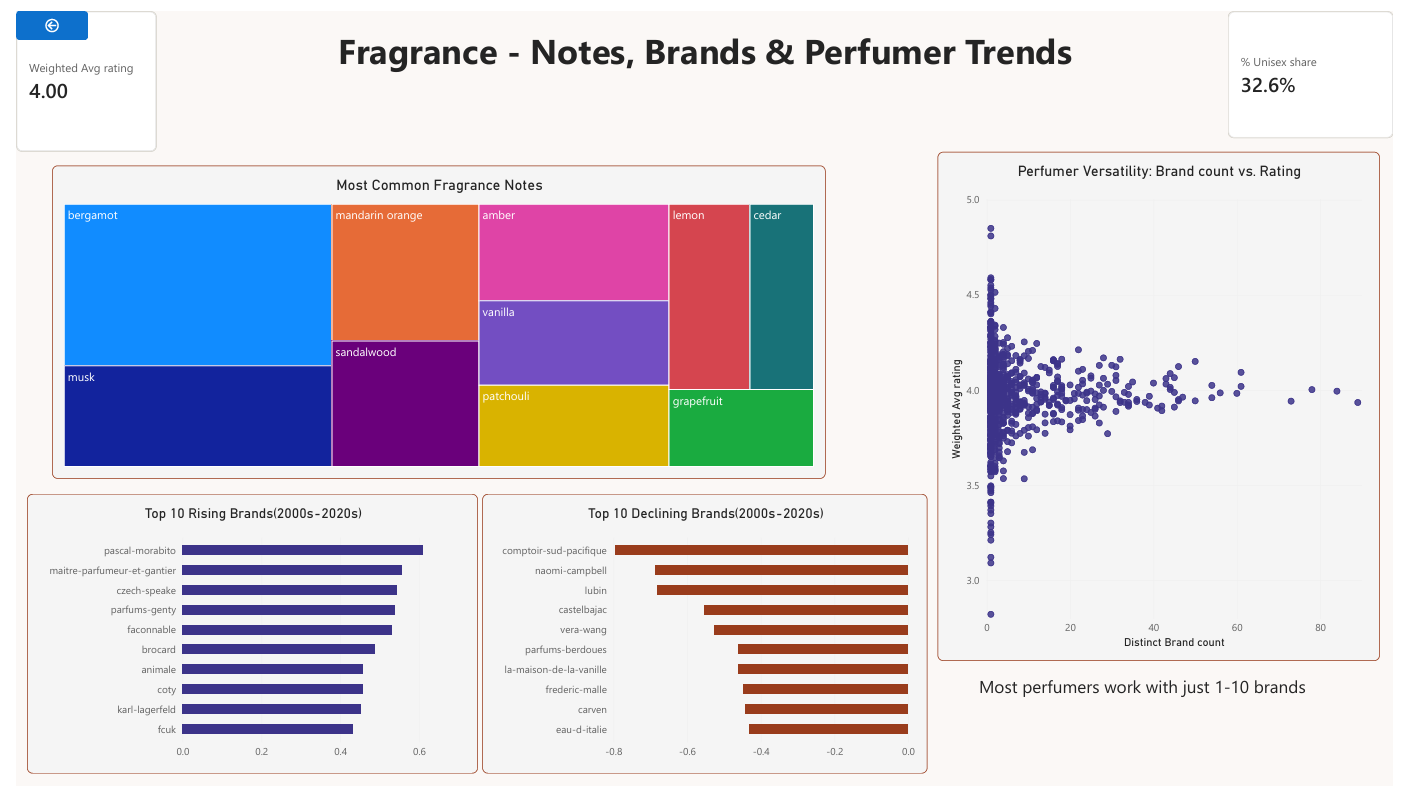

Layout of this report page (visuals, bound fields, positions):
{"tool":"powerbi","page":{"name":"Page 1","canvas":[1920,1080],"ordinal":0},"visuals":[{"type":"cardVisual","fields":{"Data":["luxury_fragrance perfumes.Weighted Avg rating"]},"box":[0,0,196,196],"z":1},{"type":"cardVisual","fields":{"Data":["luxury_fragrance perfumes.% Unisex share"]},"box":[1689.6,0,231.2,177.1],"z":2},{"type":"actionButton","box":[0,0,100,40],"z":6},{"type":"scatterChart","title":"Perfumer Versatility: Brand count vs. Rating","fields":{"Category":["luxury_fragrance perfumers.perfumer_name"],"X":["luxury_fragrance perfumes.Distinct Brand count"],"Y":["luxury_fragrance perfumes.Weighted Avg rating"]},"box":[1285.4,195.8,616.7,710.4],"z":7},{"type":"treemap","title":"Most Common Fragrance Notes","fields":{"Group":["luxury_fragrance notes.note_name"],"Values":["luxury_fragrance notes.Note Popularity"]},"box":[50,214.6,1079.2,437.5],"z":13},{"type":"clusteredBarChart","title":"Top 10 Rising Brands(2000s-2020s)","fields":{"Category":["luxury_fragrance brands.brand_name"],"Y":["luxury_fragrance perfumes.Brand momentum"]},"box":[14.6,672.9,629.2,389.6],"z":14},{"type":"clusteredBarChart","title":"Top 10 Declining Brands(2000s-2020s)","fields":{"Category":["luxury_fragrance brands.brand_name"],"Y":["luxury_fragrance perfumes.Brand momentum"]},"box":[650,672.9,620.8,389.6],"z":15},{"type":"textbox","box":[1262.5,925,616.7,43.8],"z":16},{"type":"textbox","box":[195.8,0,1529.2,122.9],"z":17}]}

Visuals, with their boxes in screenshot pixels (x1, y1, x2, y2), scaled from the page's 1920x1080 canvas onto the 1407x797 screenshot:
cardVisual - luxury_fragrance perfumes.Weighted Avg rating: [left=0, top=0, right=144, bottom=145]
cardVisual - luxury_fragrance perfumes.% Unisex share: [left=1238, top=0, right=1406, bottom=131]
actionButton: [left=0, top=0, right=73, bottom=30]
"Perfumer Versatility: Brand count vs. Rating" scatterChart: [left=942, top=144, right=1394, bottom=669]
"Most Common Fragrance Notes" treemap: [left=37, top=158, right=827, bottom=481]
"Top 10 Rising Brands(2000s-2020s)" clusteredBarChart: [left=11, top=497, right=472, bottom=784]
"Top 10 Declining Brands(2000s-2020s)" clusteredBarChart: [left=476, top=497, right=931, bottom=784]
textbox: [left=925, top=683, right=1377, bottom=715]
textbox: [left=143, top=0, right=1264, bottom=91]
